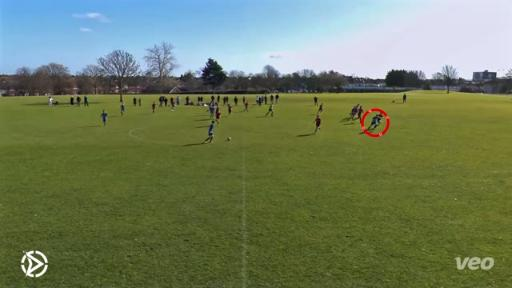highlight_overlay: (359, 107, 391, 140)
